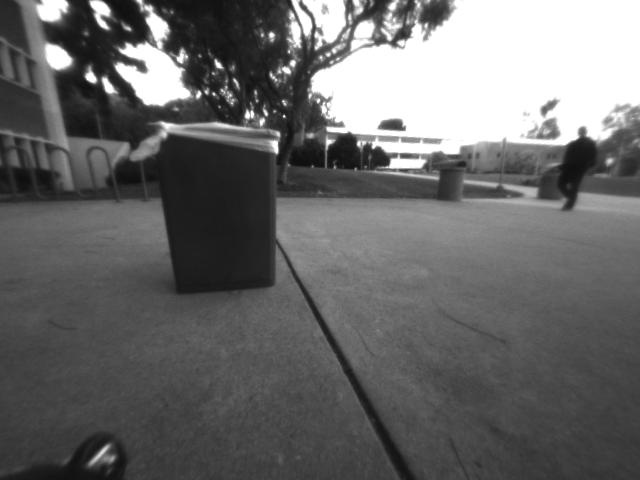trashcan: (139, 115, 292, 307)
